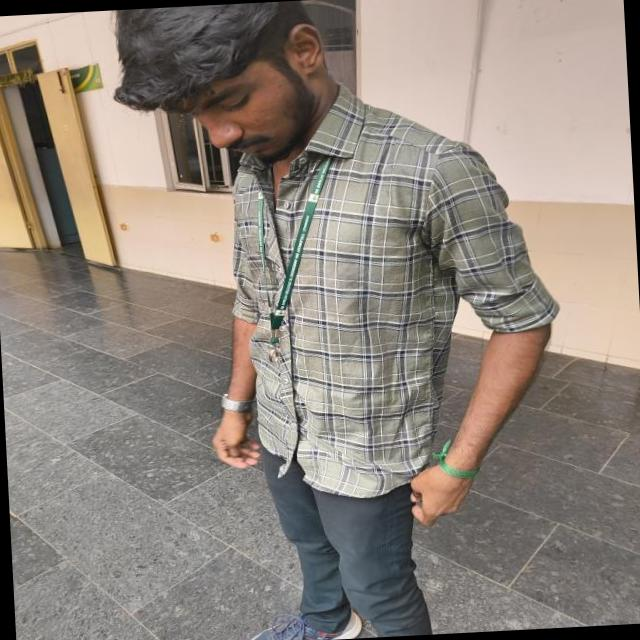id_card: (249, 150, 333, 377)
